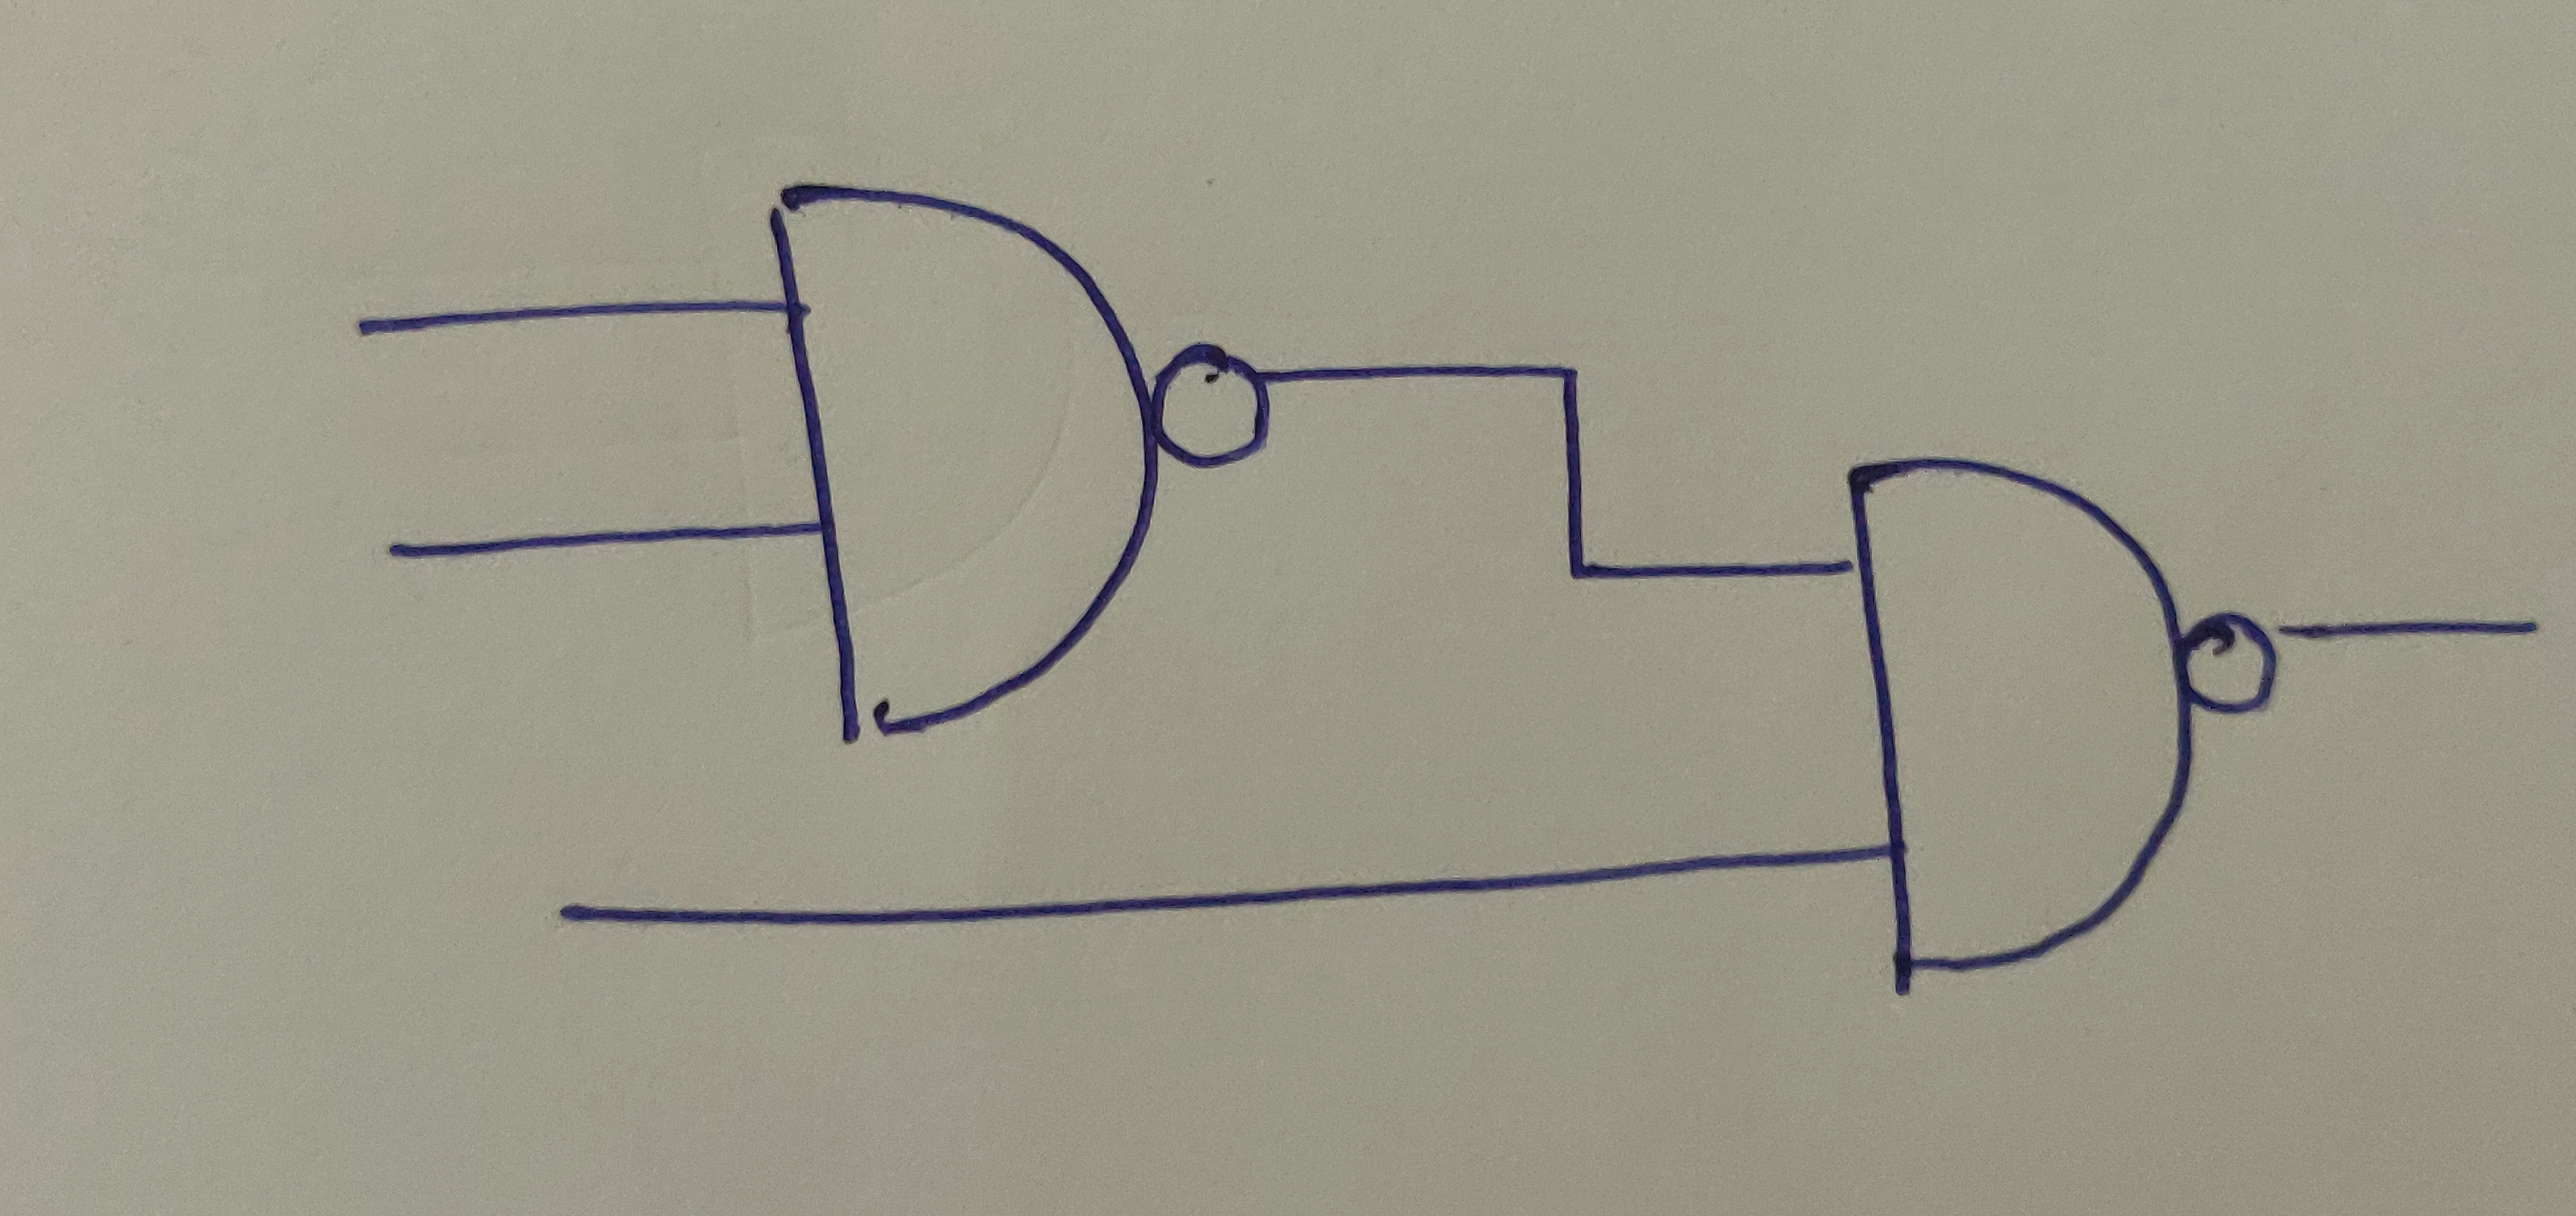and: (757, 181, 1153, 743), (1840, 454, 2183, 976)
not: (1150, 348, 1278, 470), (2180, 610, 2287, 718)
